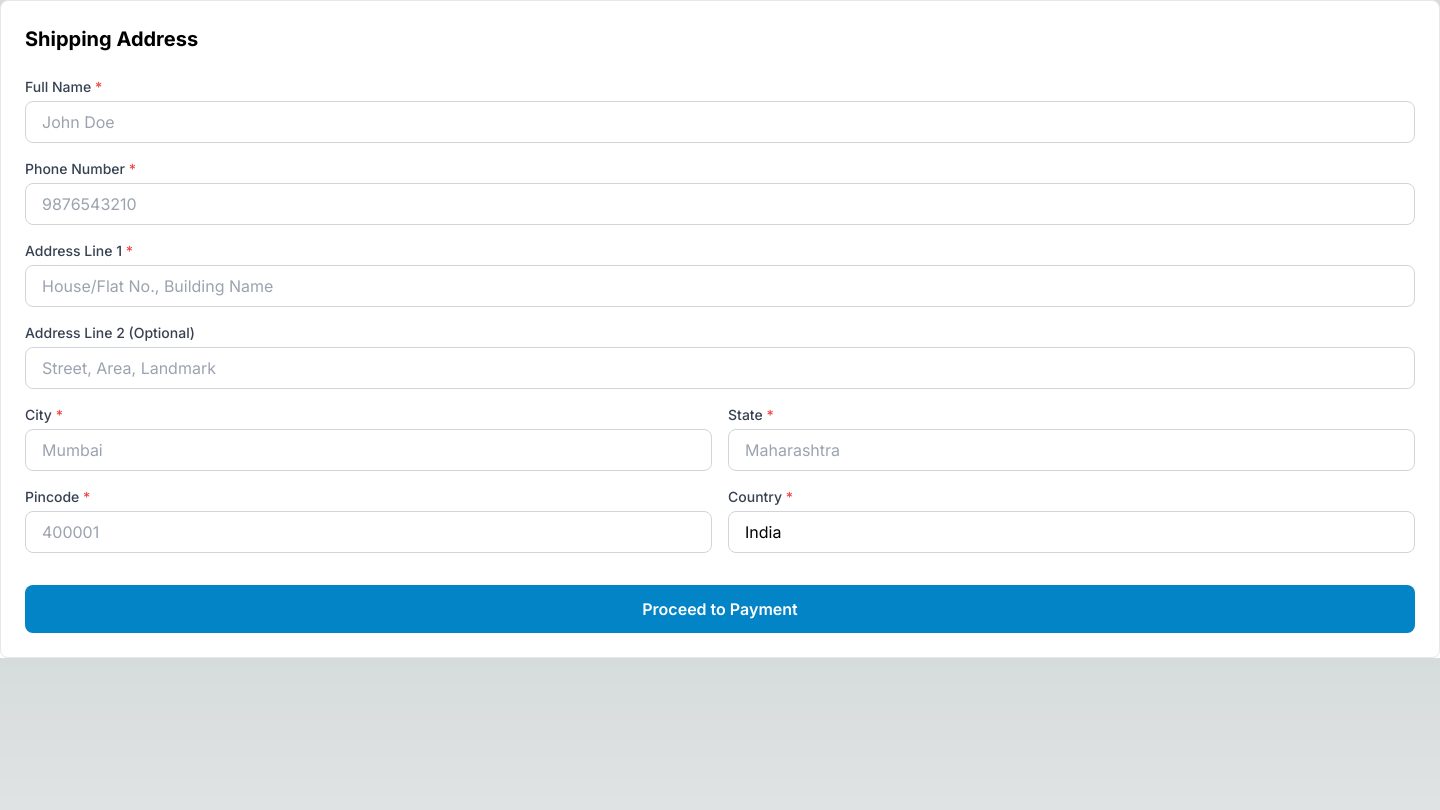
Test: CheckoutForm › validates pincode format
In the field labelled "Pincode *": [368, 532] box [25, 511, 712, 553], type "123"
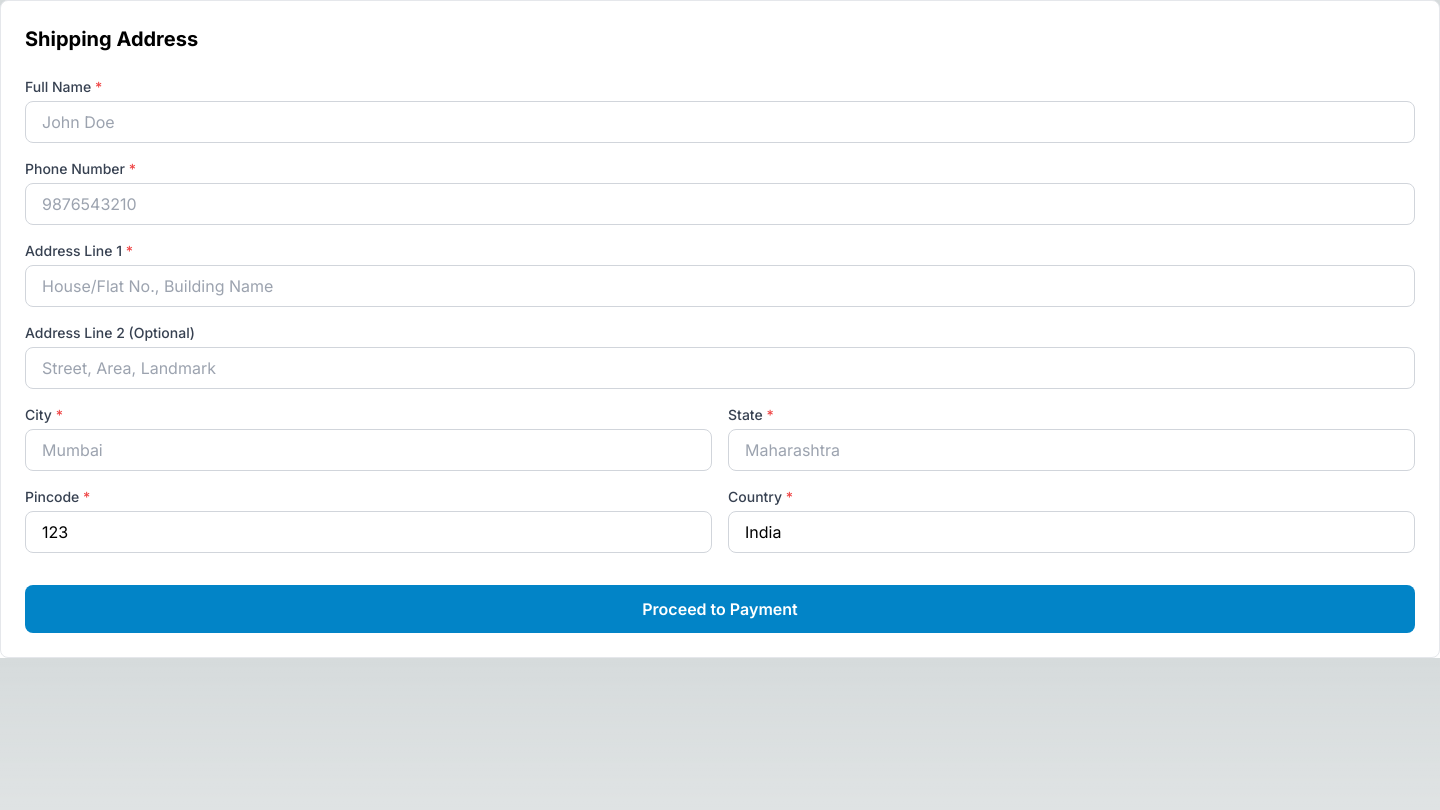
Click the button "Proceed to Payment": [720, 609] box [25, 585, 1415, 633]
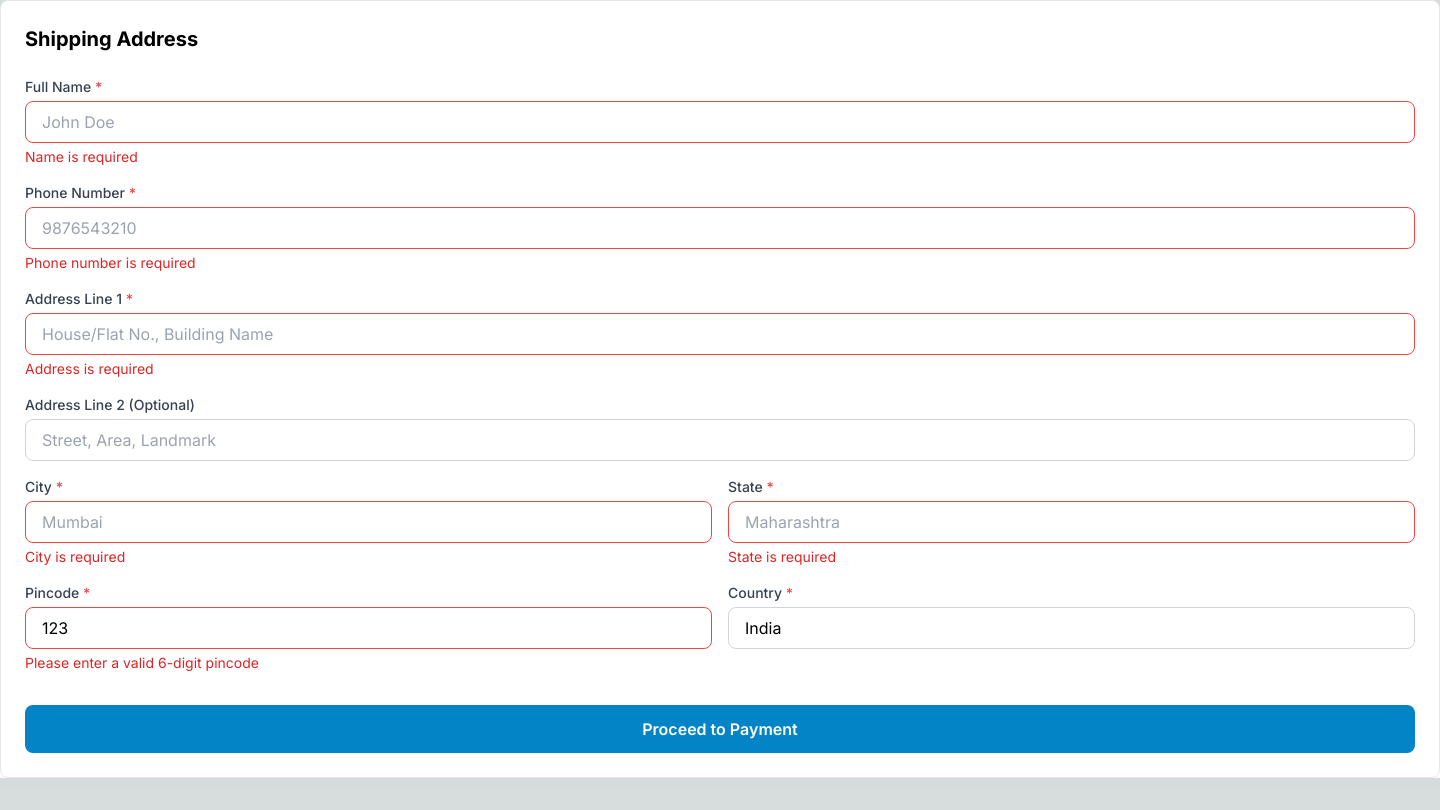
Check: the text "Please enter a valid 6-digit pincode" is shown, box [25, 654, 259, 671]
